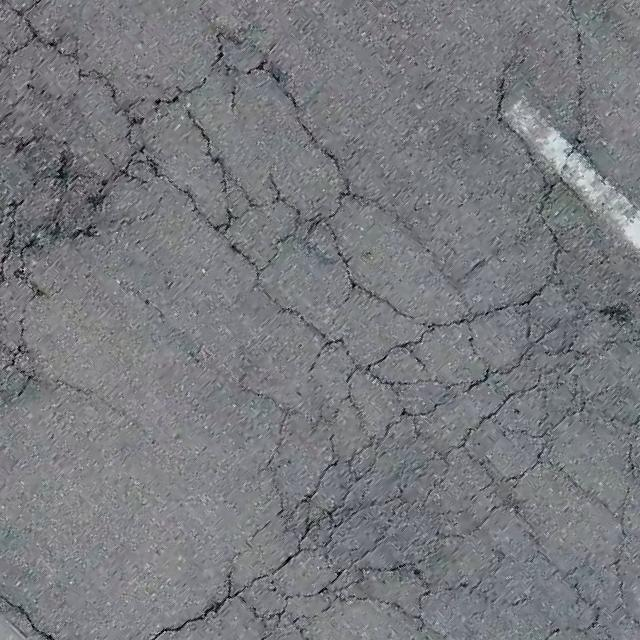GRIETA: (150, 600, 223, 639), (0, 594, 56, 639), (567, 0, 585, 108)
PIEL DE COCODRILO: (0, 0, 639, 639)
